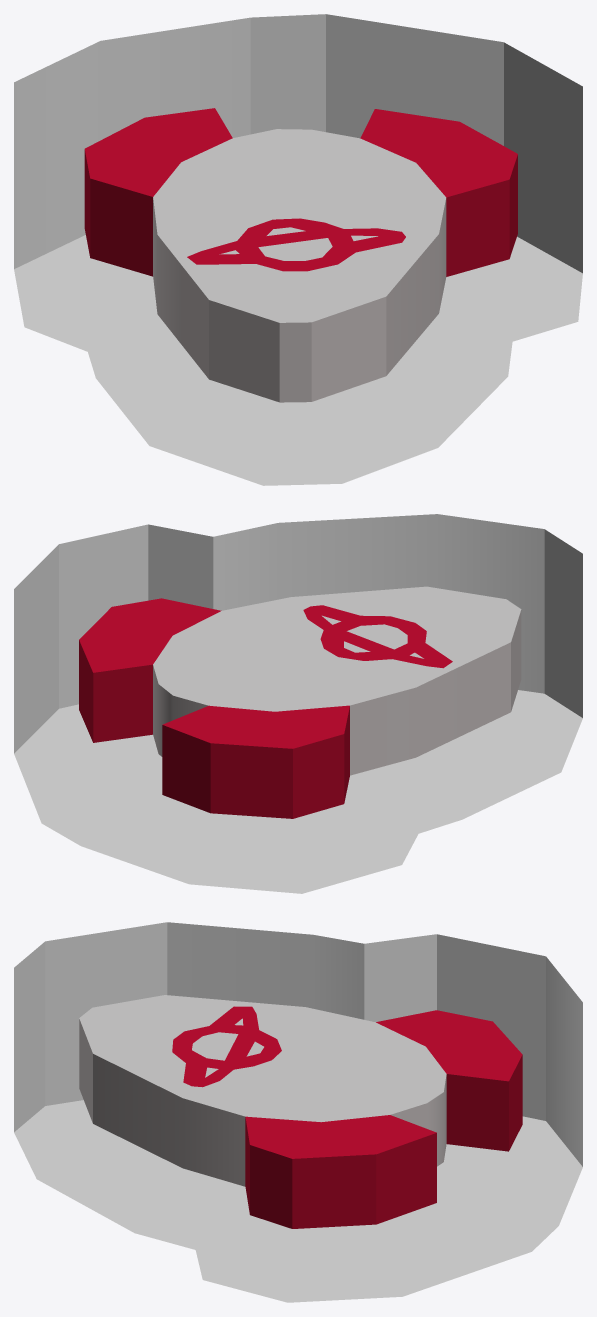
Rendered from PixarPizzaPlanetRocket.glb.
3 renders of one model, top to bottom at view 1: azimuth 30°, elevation 25°; view 2: azimuth 150°, elevation 25°; view 3: azimuth 270°, elevation 25°, orthographic. The views are drawn at different scales.
Visible parts, largest first — view 1: PixarPizzaPlanetRocket; view 2: PixarPizzaPlanetRocket; view 3: PixarPizzaPlanetRocket.
Boxes of the visible parts, left/top/right/bottom form: PixarPizzaPlanetRocket: left=14, top=14, right=582, bottom=485; PixarPizzaPlanetRocket: left=14, top=514, right=582, bottom=893; PixarPizzaPlanetRocket: left=14, top=922, right=582, bottom=1302.
Size of the model in its own units: 0.2624 by 0.0934 by 0.2922.
